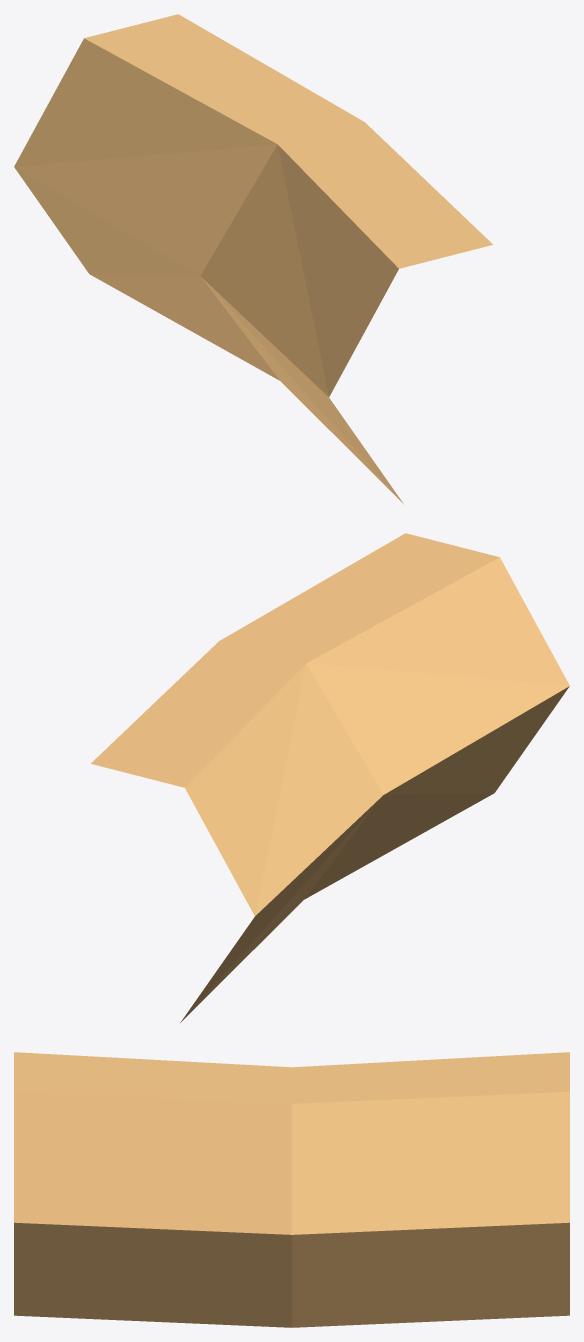
File: FlatBody.glb
The picture shows the model from 3 angles, top to bottom: view 1: azimuth 30°, elevation 25°; view 2: azimuth 150°, elevation 25°; view 3: azimuth 270°, elevation 25°; orthographic projection. The views are drawn at different scales.
Parts seen in each view (by area): view 1: Flat Body; view 2: Flat Body; view 3: Flat Body.
Part boxes in pixels (x1,y1,x2,y2): Flat Body: (14,14,492,503); Flat Body: (91,533,569,1022); Flat Body: (14,1052,569,1327).
Size of the model in its own units: 0.1419 by 0.1199 by 0.2869.
